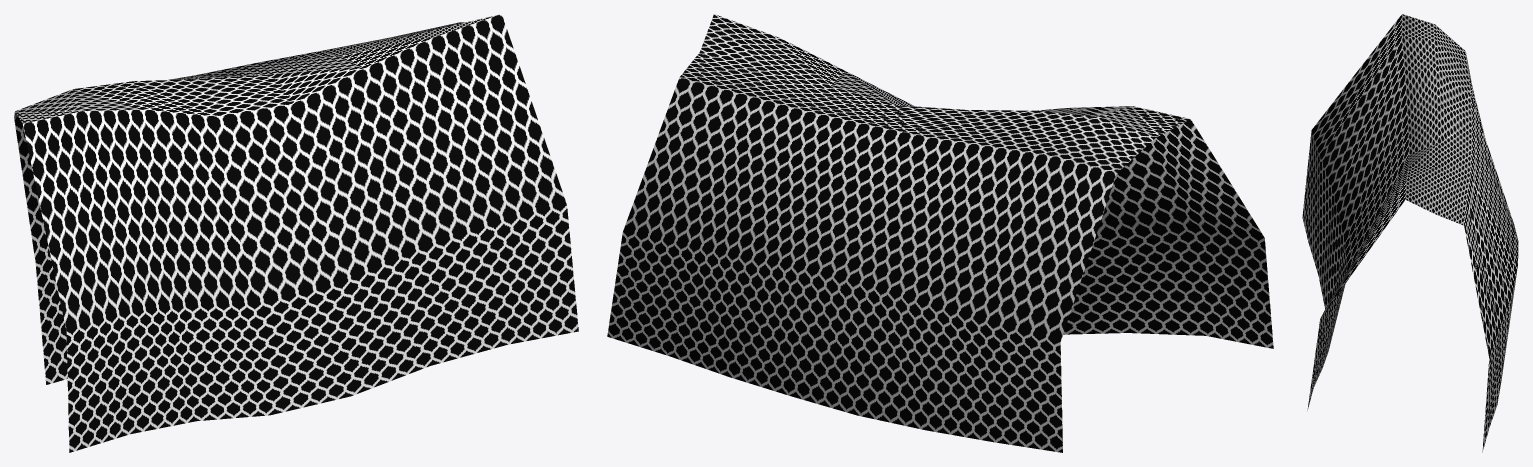
The model's file is RopoNet2.fbx.
The picture shows the model from 3 angles, left to right: view 1: azimuth 30°, elevation 25°; view 2: azimuth 150°, elevation 25°; view 3: azimuth 270°, elevation 25°; orthographic projection. The views are drawn at different scales.
Parts seen in each view (by area): view 1: Plane.001; view 2: Plane.001; view 3: Plane.001.
Part boxes in pixels (x1,y1,x2,y2): Plane.001: (14, 14, 578, 452); Plane.001: (607, 14, 1273, 452); Plane.001: (1302, 14, 1518, 452).
Size of the model in its own units: 237 by 130 by 104.
